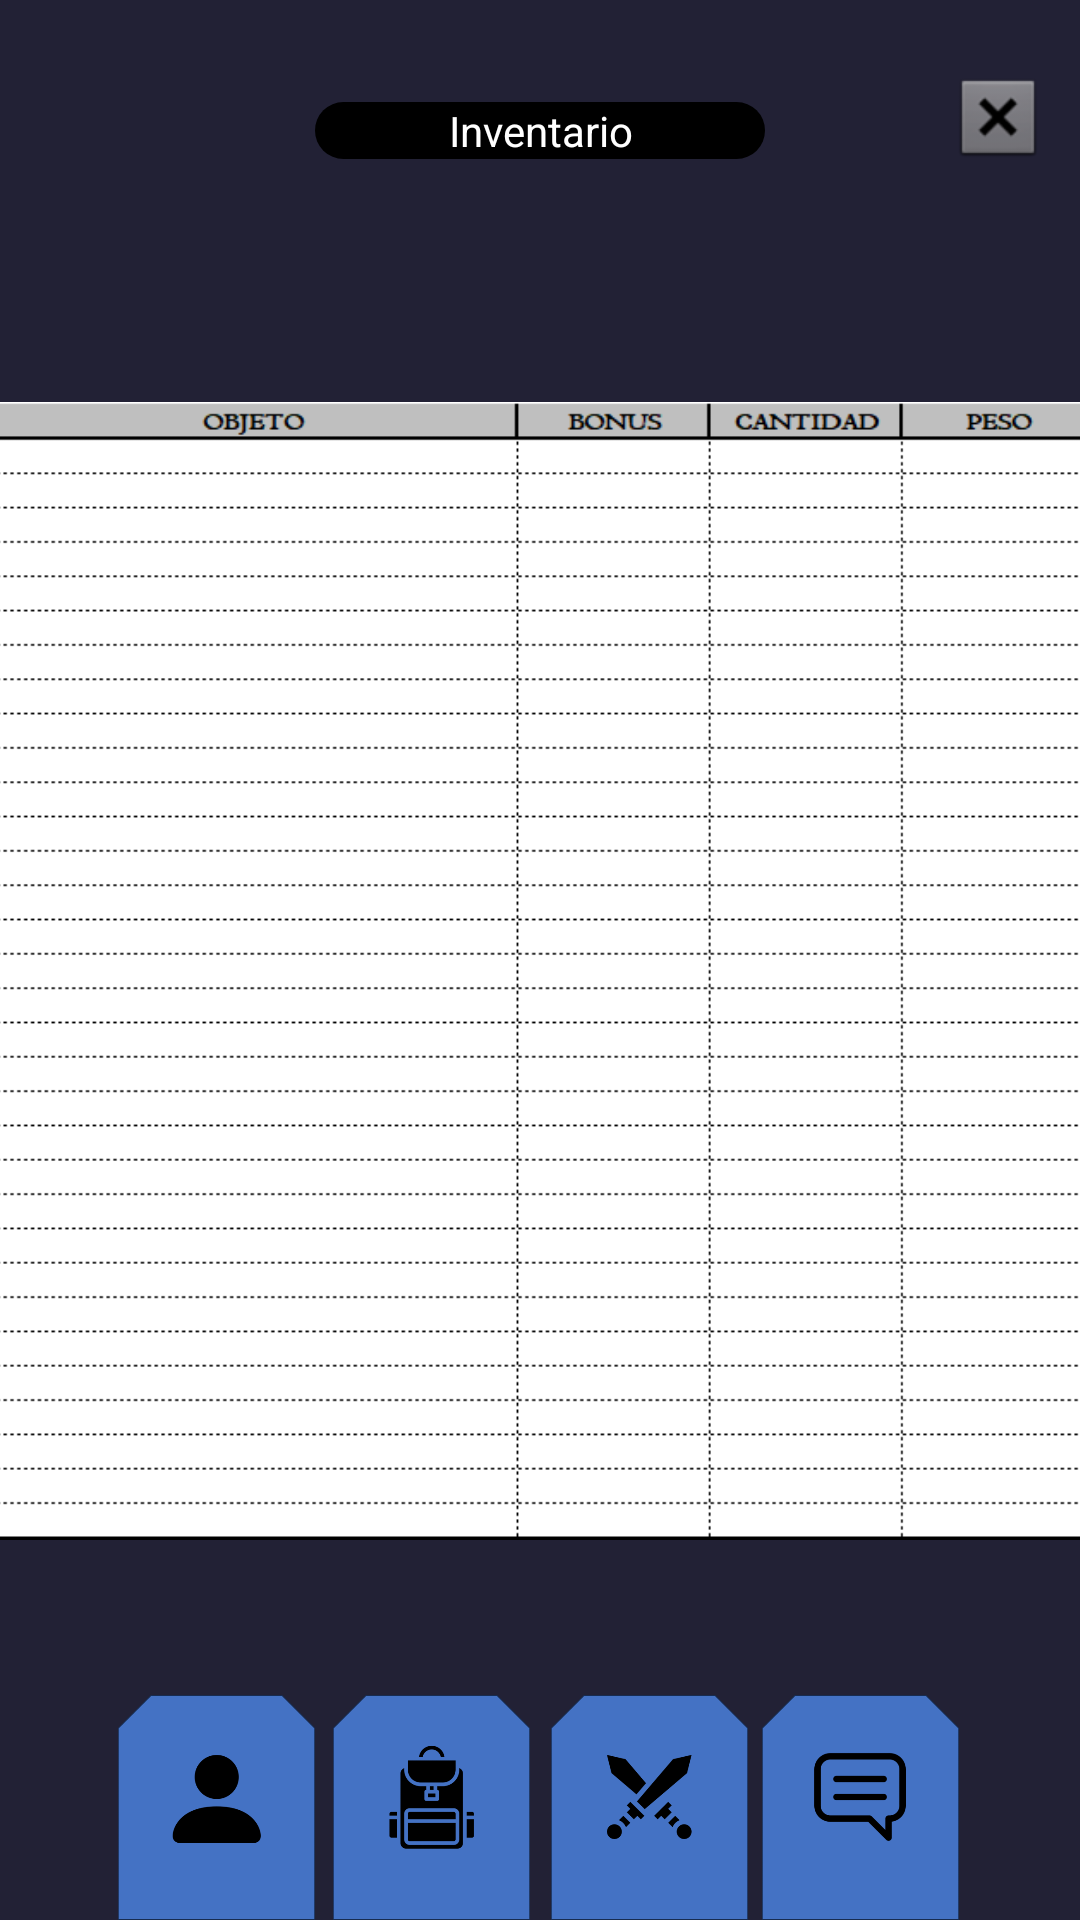

Icon click points for this 1080px×1920px phone screenshot, format (x,y):
pestanya equipacion: (649,1807)
pestanya informacion: (860,1807)
pestanya inventario: (431,1807)
pestanya pj: (216,1807)
